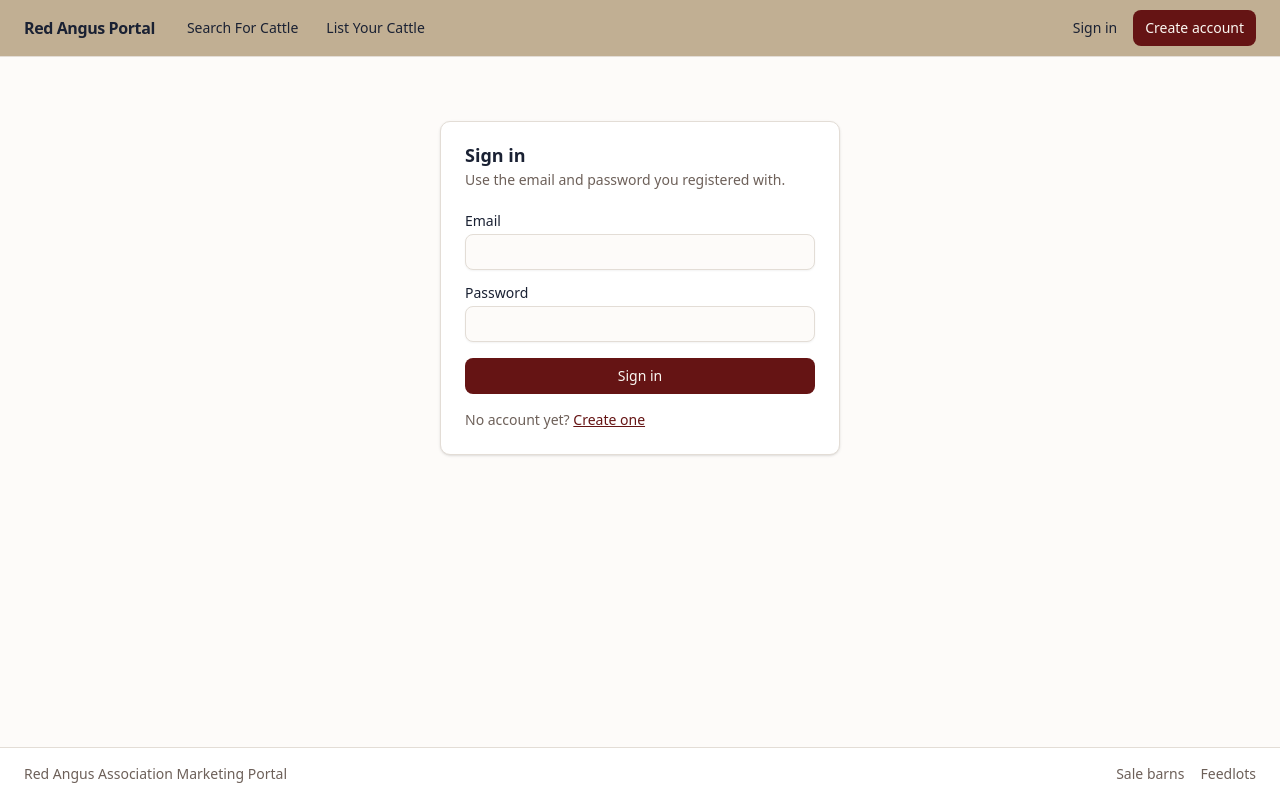
Scenario: auth screens › logs in, stores the token and shows the account page
This screenshot has width=1280, height=800.
Type "a@b.com" into the field labelled "Email".
click(640, 252); type("a@b.com")  # box [465, 234, 815, 270]
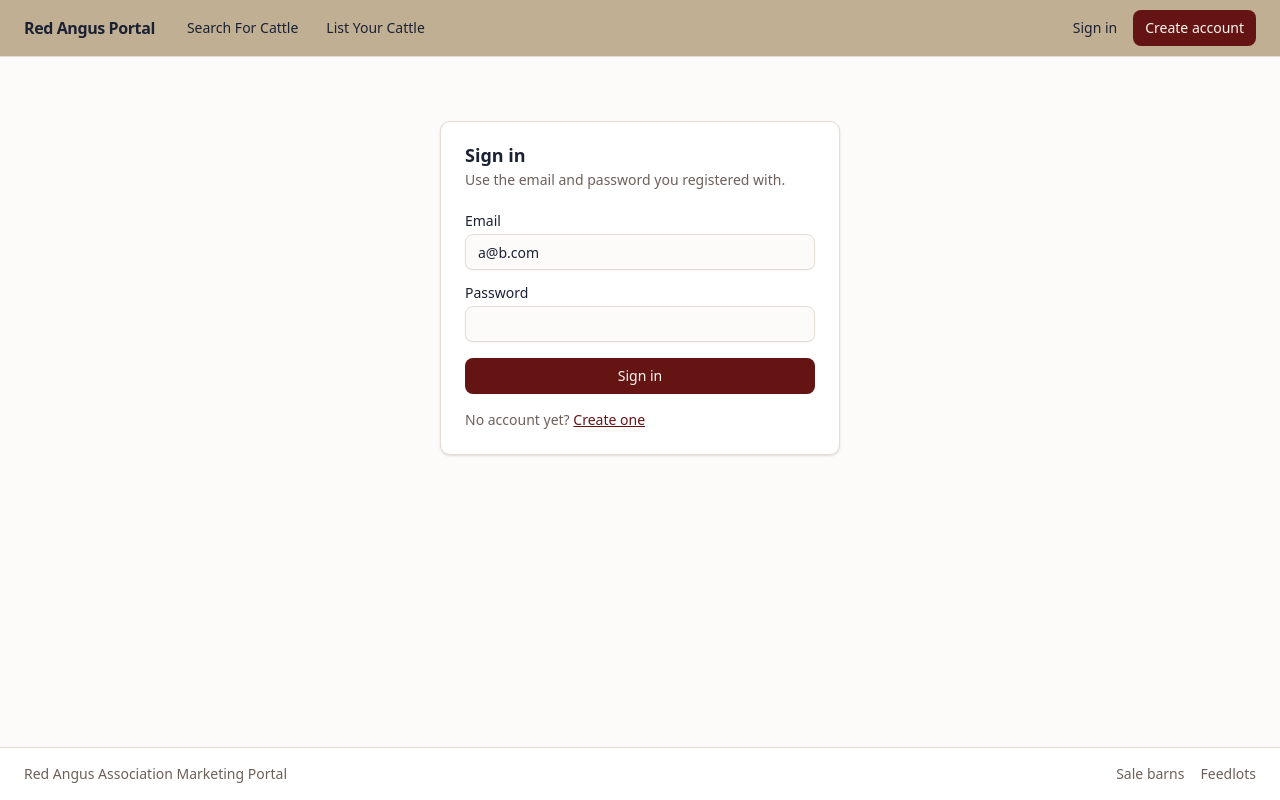
Type "longenoughpw" into the password field labelled "Password".
click(640, 324); type("longenoughpw")  # box [465, 306, 815, 342]
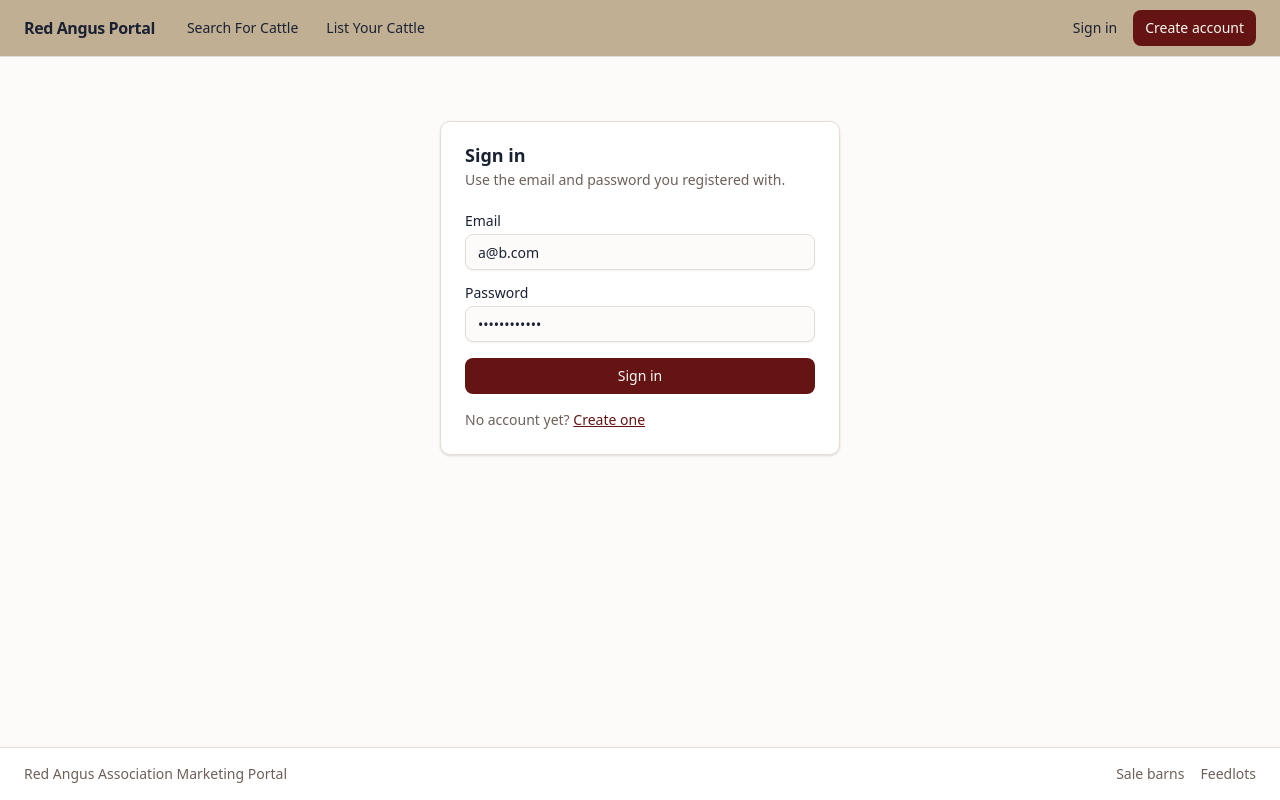
Click the button "Sign in".
click(640, 376)  # box [465, 358, 815, 394]
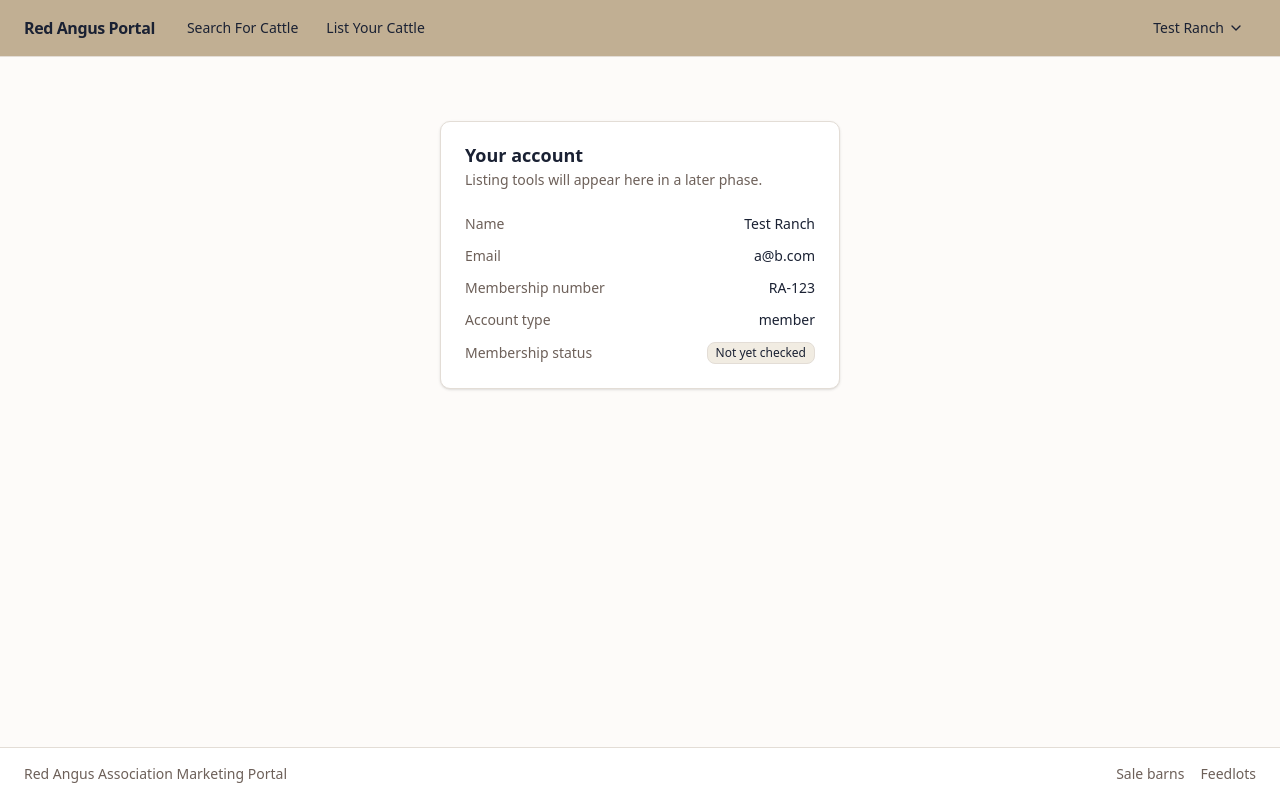
Result: the heading "Your account" is shown at [465, 143, 583, 167]
Result: the text "RA-123" is shown at [769, 278, 815, 298]
